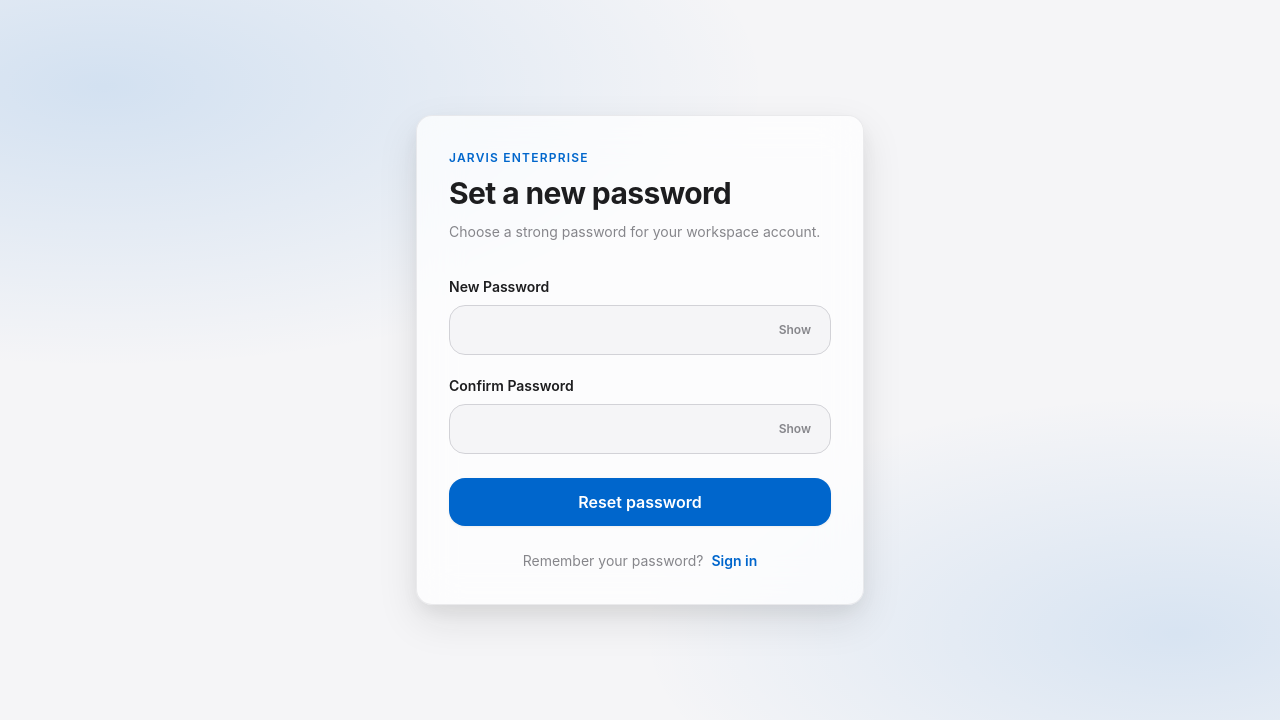
Test: ResetPasswordComponent › shows a validation message when the password is too short
Type "short" into the password field labelled "New Password" at (640, 330), box [449, 304, 831, 354]
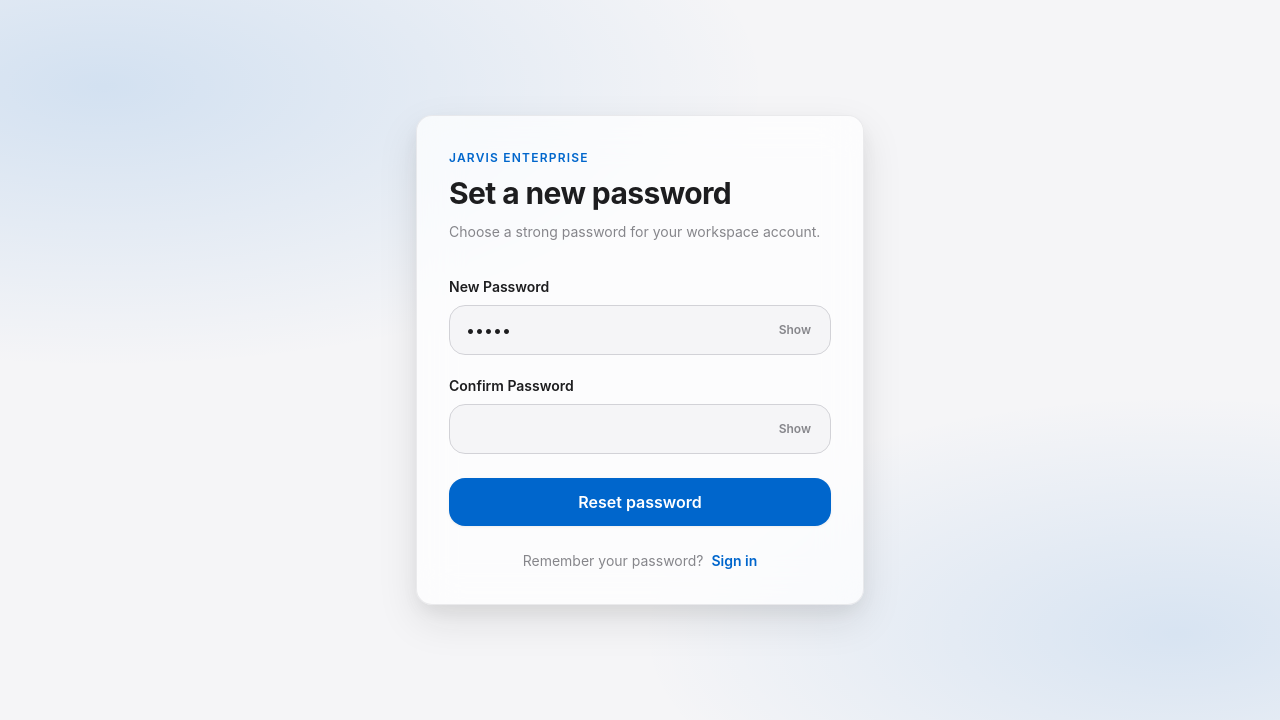
Type "short" into the password field with id "confirmPassword" at (640, 428), box [449, 404, 831, 454]
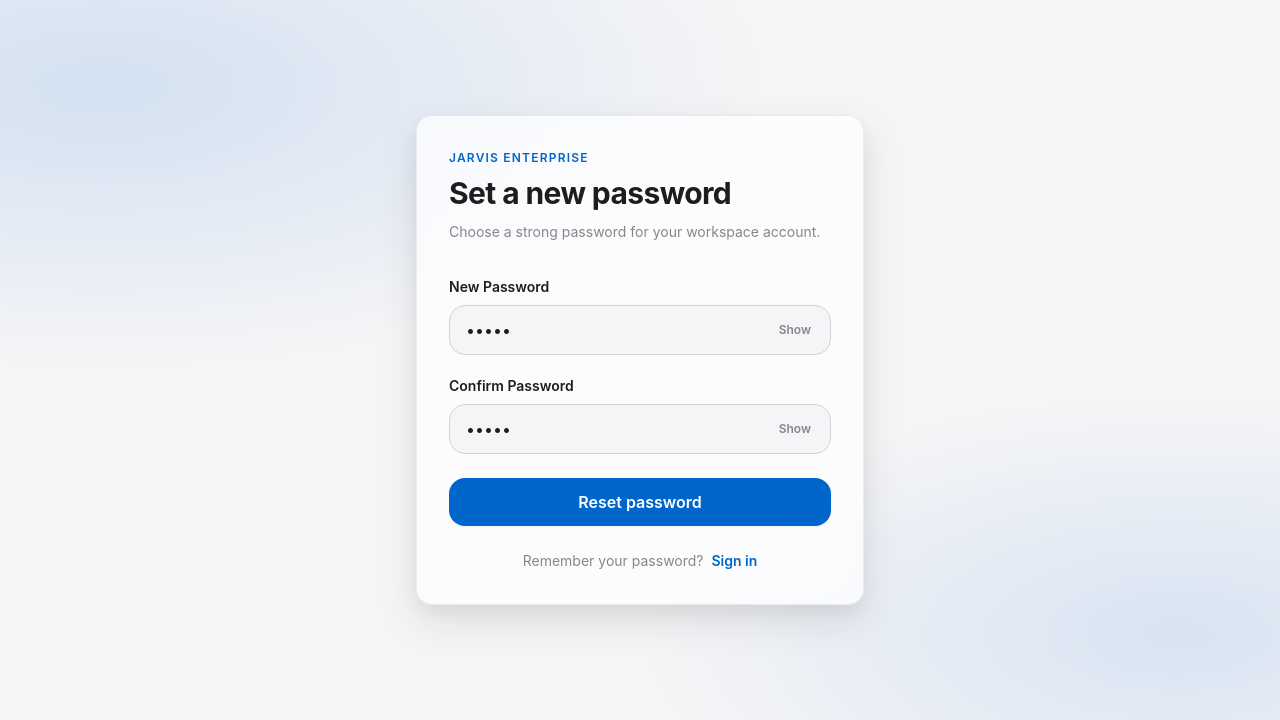
Click the submit button at (640, 502), box [449, 478, 831, 526]
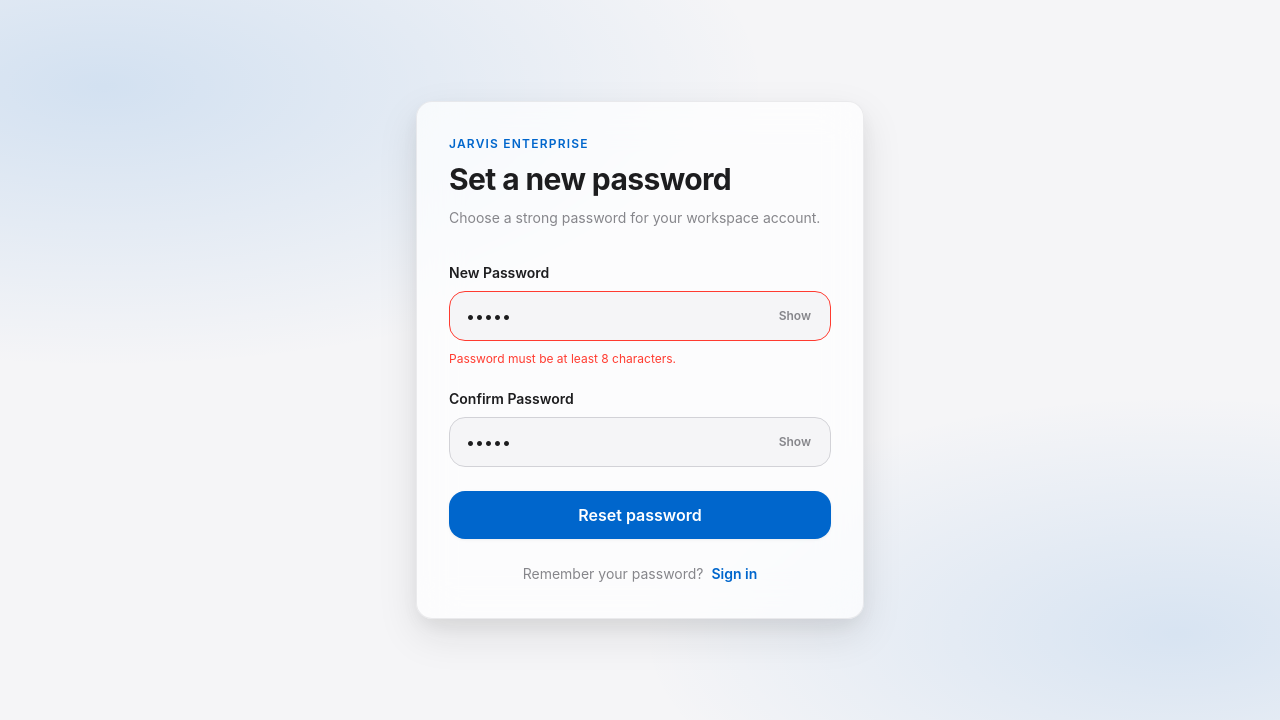
Now the message "Password must be at least 8 characters." is shown, box [449, 351, 676, 366]
